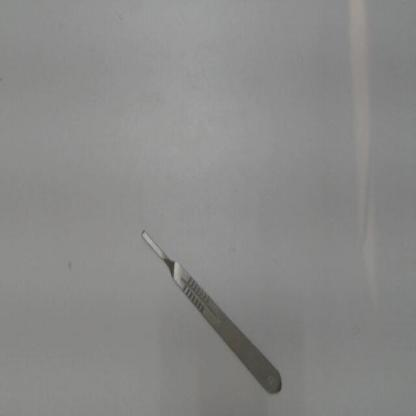No.4 BP Handle: (131, 220, 288, 404)
